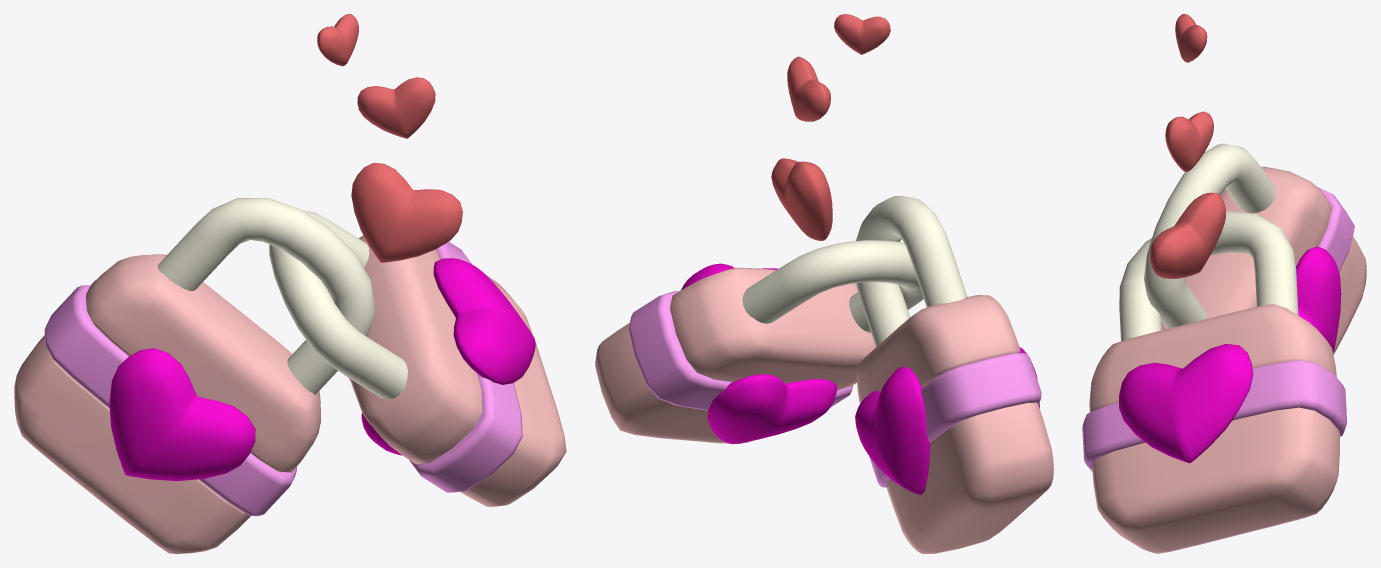
3 renders of one model, left to right at view 1: azimuth 30°, elevation 25°; view 2: azimuth 150°, elevation 25°; view 3: azimuth 270°, elevation 25°, orthographic. The views are drawn at different scales.
Visible parts, largest first — view 1: polySurface946, polySurface950, polySurface792, polySurface945, polySurface948, polySurface787, polySurface947, polySurface789, polySurface800, polySurface791, polySurface788, polySurface799 (+1 smaller); view 2: polySurface792, polySurface950, polySurface946, polySurface787, polySurface948, polySurface949, polySurface947, polySurface790, polySurface791, polySurface788, polySurface800, polySurface799 (+1 smaller); view 3: polySurface791, polySurface789, polySurface792, polySurface946, polySurface948, polySurface787, polySurface788, polySurface800, polySurface949, polySurface799, polySurface950, polySurface947 (+1 smaller).
Part boxes in pixels (<box>): polySurface946: <box>86,254,320,472</box>; polySurface950: <box>14,335,250,553</box>; polySurface792: <box>350,235,482,464</box>; polySurface945: <box>109,348,255,480</box>; polySurface948: <box>157,198,375,394</box>; polySurface787: <box>269,210,407,399</box>; polySurface947: <box>44,285,296,516</box>; polySurface789: <box>433,258,535,384</box>; polySurface800: <box>351,163,462,262</box>; polySurface791: <box>461,274,566,506</box>; polySurface788: <box>409,241,522,492</box>; polySurface799: <box>357,77,435,138</box>; polySurface792: <box>670,267,875,390</box>; polySurface950: <box>887,402,1053,553</box>; polySurface946: <box>857,295,1020,403</box>; polySurface787: <box>742,240,923,332</box>; polySurface948: <box>856,195,967,346</box>; polySurface949: <box>855,367,930,494</box>; polySurface947: <box>869,353,1041,487</box>; polySurface790: <box>707,374,837,444</box>; polySurface791: <box>595,323,750,443</box>; polySurface788: <box>628,291,852,410</box>; polySurface800: <box>771,158,832,240</box>; polySurface799: <box>787,56,830,121</box>; polySurface791: <box>1092,407,1339,553</box>; polySurface789: <box>1119,344,1253,463</box>; polySurface792: <box>1089,304,1336,412</box>; polySurface946: <box>1161,166,1332,330</box>; polySurface948: <box>1144,143,1275,328</box>; polySurface787: <box>1119,211,1298,341</box>; polySurface788: <box>1082,360,1347,471</box>; polySurface800: <box>1150,192,1225,278</box>; polySurface949: <box>1296,246,1341,352</box>; polySurface799: <box>1165,111,1213,171</box>; polySurface950: <box>1333,236,1366,354</box>; polySurface947: <box>1318,187,1354,272</box>.
Size of the model in its own units: 1107 by 1100 by 596.
